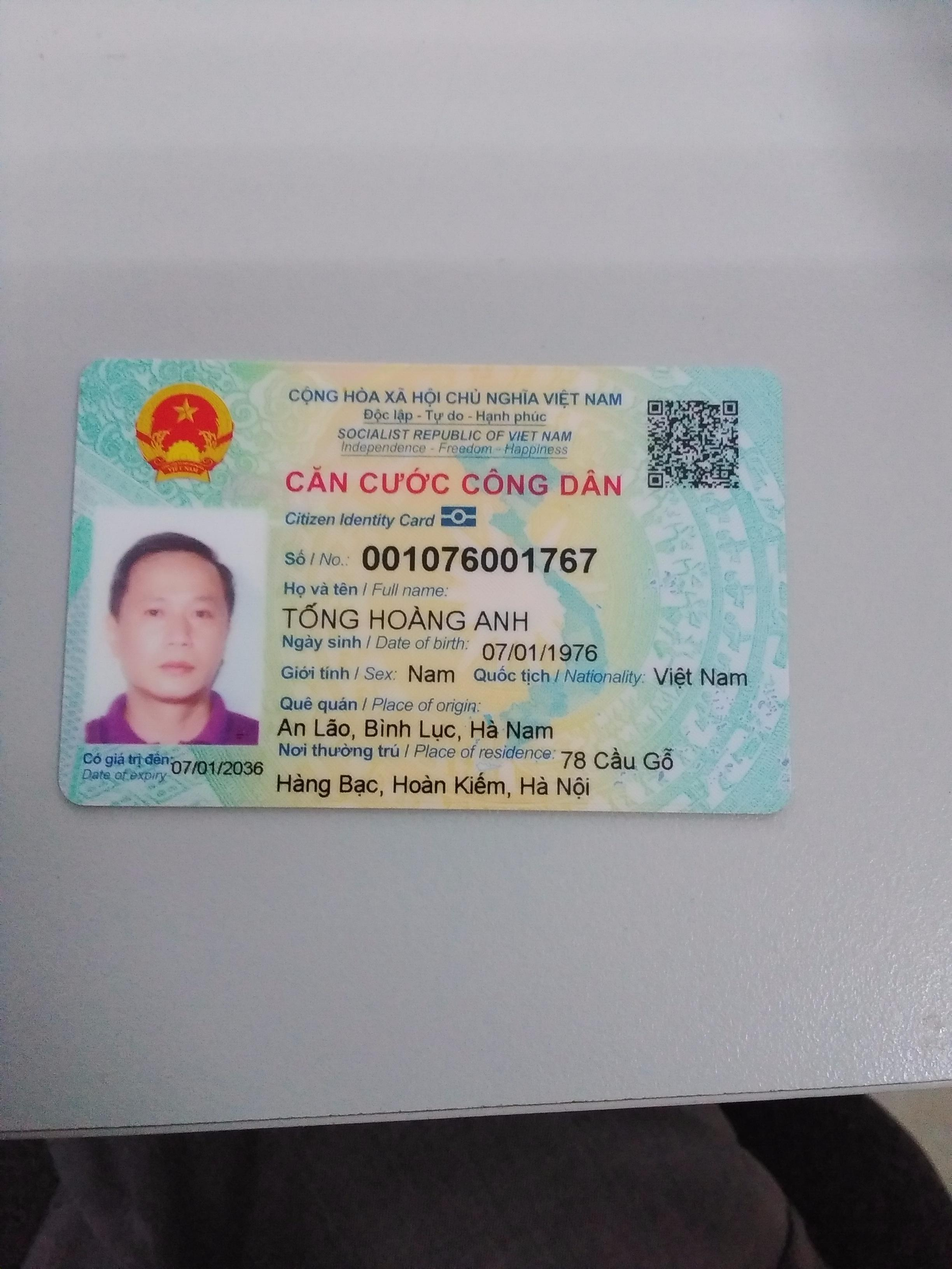ID: (354, 537, 606, 582)
birth: (474, 634, 602, 670)
name: (273, 597, 538, 638)
place: (269, 711, 563, 744)
residence: (267, 764, 620, 804), (557, 746, 687, 776)
